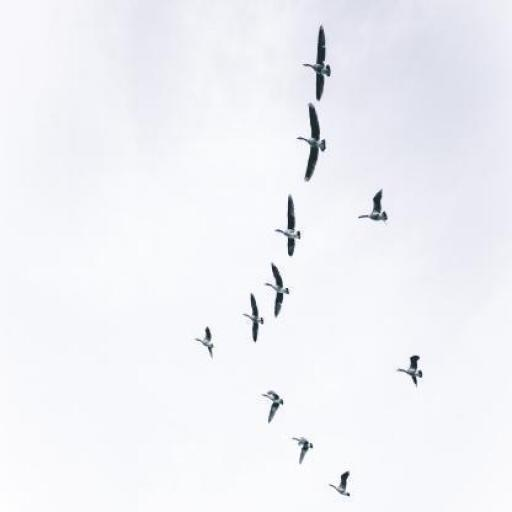bird: (298, 102, 327, 182), (303, 25, 331, 101), (274, 193, 300, 257), (265, 261, 289, 319), (358, 188, 388, 226), (242, 292, 264, 343), (398, 356, 424, 389), (262, 390, 284, 424), (292, 437, 314, 465), (196, 326, 214, 360), (328, 472, 350, 498)
